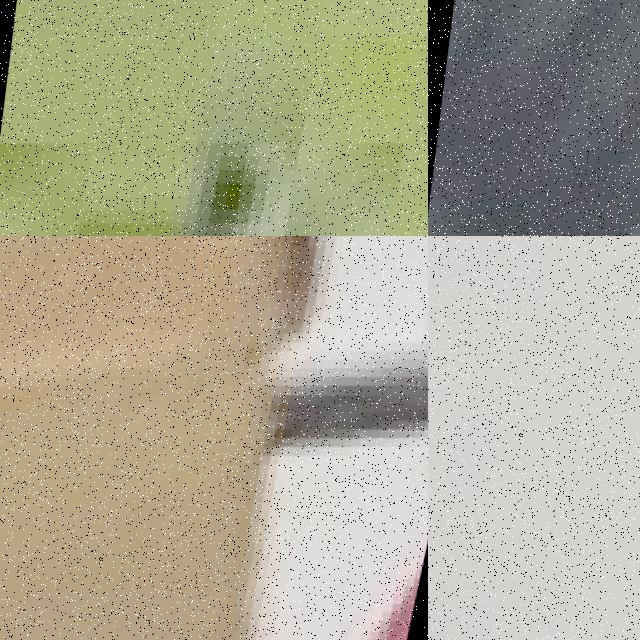0: (0, 0, 428, 236)
drone: (0, 236, 428, 640), (428, 0, 640, 236), (428, 502, 640, 640)
